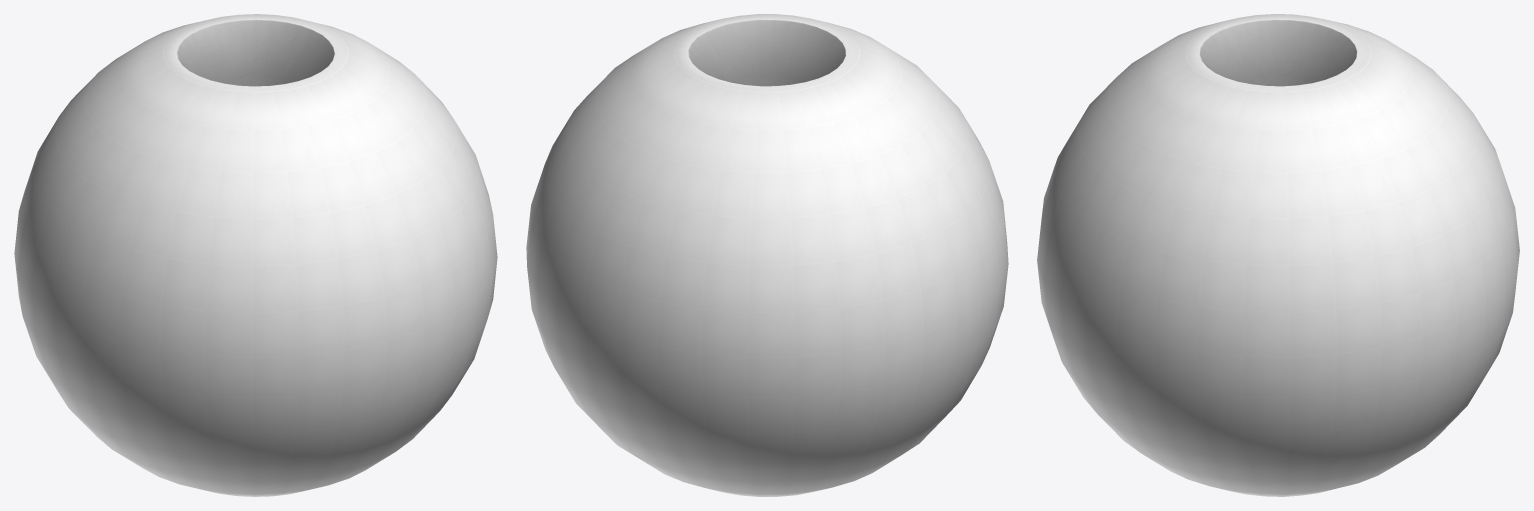
File: street_el_3.glb
3 renders of one model, left to right at view 1: azimuth 30°, elevation 25°; view 2: azimuth 150°, elevation 25°; view 3: azimuth 270°, elevation 25°, orthographic.
Parts seen in each view (by area): view 1: street_el_3; view 2: street_el_3; view 3: street_el_3.
Boxes of the visible parts, x1,y1,x2,y2 form: street_el_3: (14,14,497,496); street_el_3: (526,14,1008,496); street_el_3: (1037,14,1519,496).
Bounding box in the file's own units: 0.775 × 0.7169 × 0.7751.
1 material, 1 textured.
